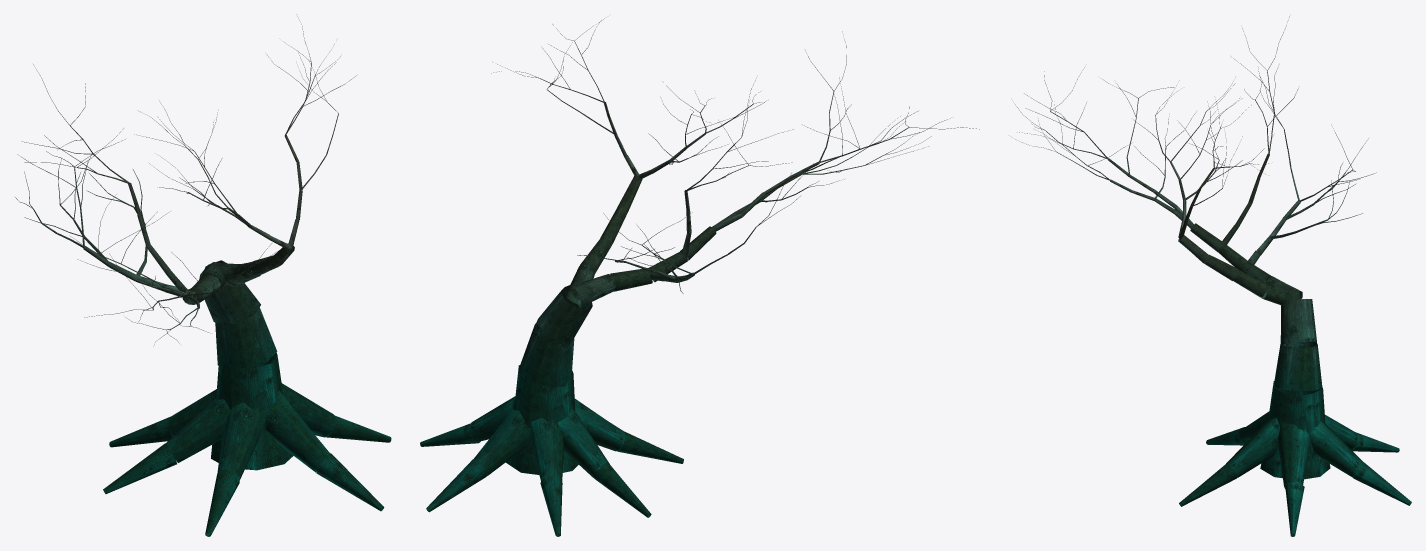
The model's file is tree_oak_gnarled_bare.glb.
3 renders of one model, left to right at view 1: azimuth 30°, elevation 25°; view 2: azimuth 150°, elevation 25°; view 3: azimuth 270°, elevation 25°, orthographic. The views are drawn at different scales.
Parts seen in each view (by area): view 1: tree_oak_gnarled_bare_LOD0; view 2: tree_oak_gnarled_bare_LOD0; view 3: tree_oak_gnarled_bare_LOD0.
Boxes of the visible parts, <box> form: tree_oak_gnarled_bare_LOD0: <box>15,14,391,536</box>; tree_oak_gnarled_bare_LOD0: <box>420,18,979,536</box>; tree_oak_gnarled_bare_LOD0: <box>1015,16,1411,536</box>.
Size of what is drawn, in the model's own units: 7.48 by 7.43 by 6.98.
1 material, 1 textured.
